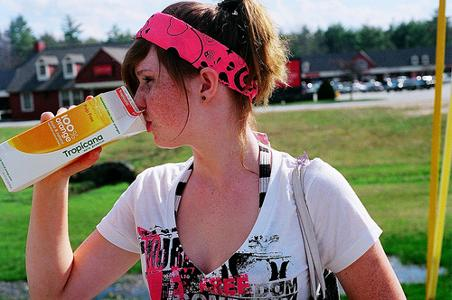person: (2, 1, 409, 300)
